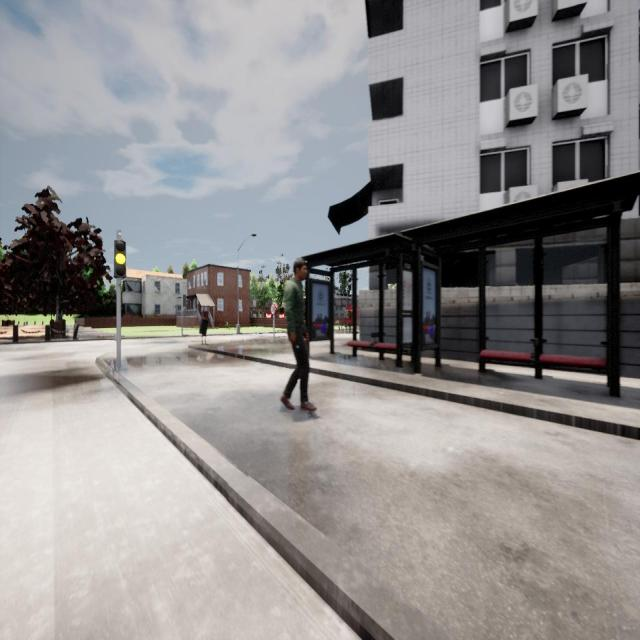Pedestrian: (280, 258, 316, 411)
Traffic_Signs: (271, 304, 277, 314)
traffic_light: (114, 240, 126, 276), (183, 294, 187, 306)
